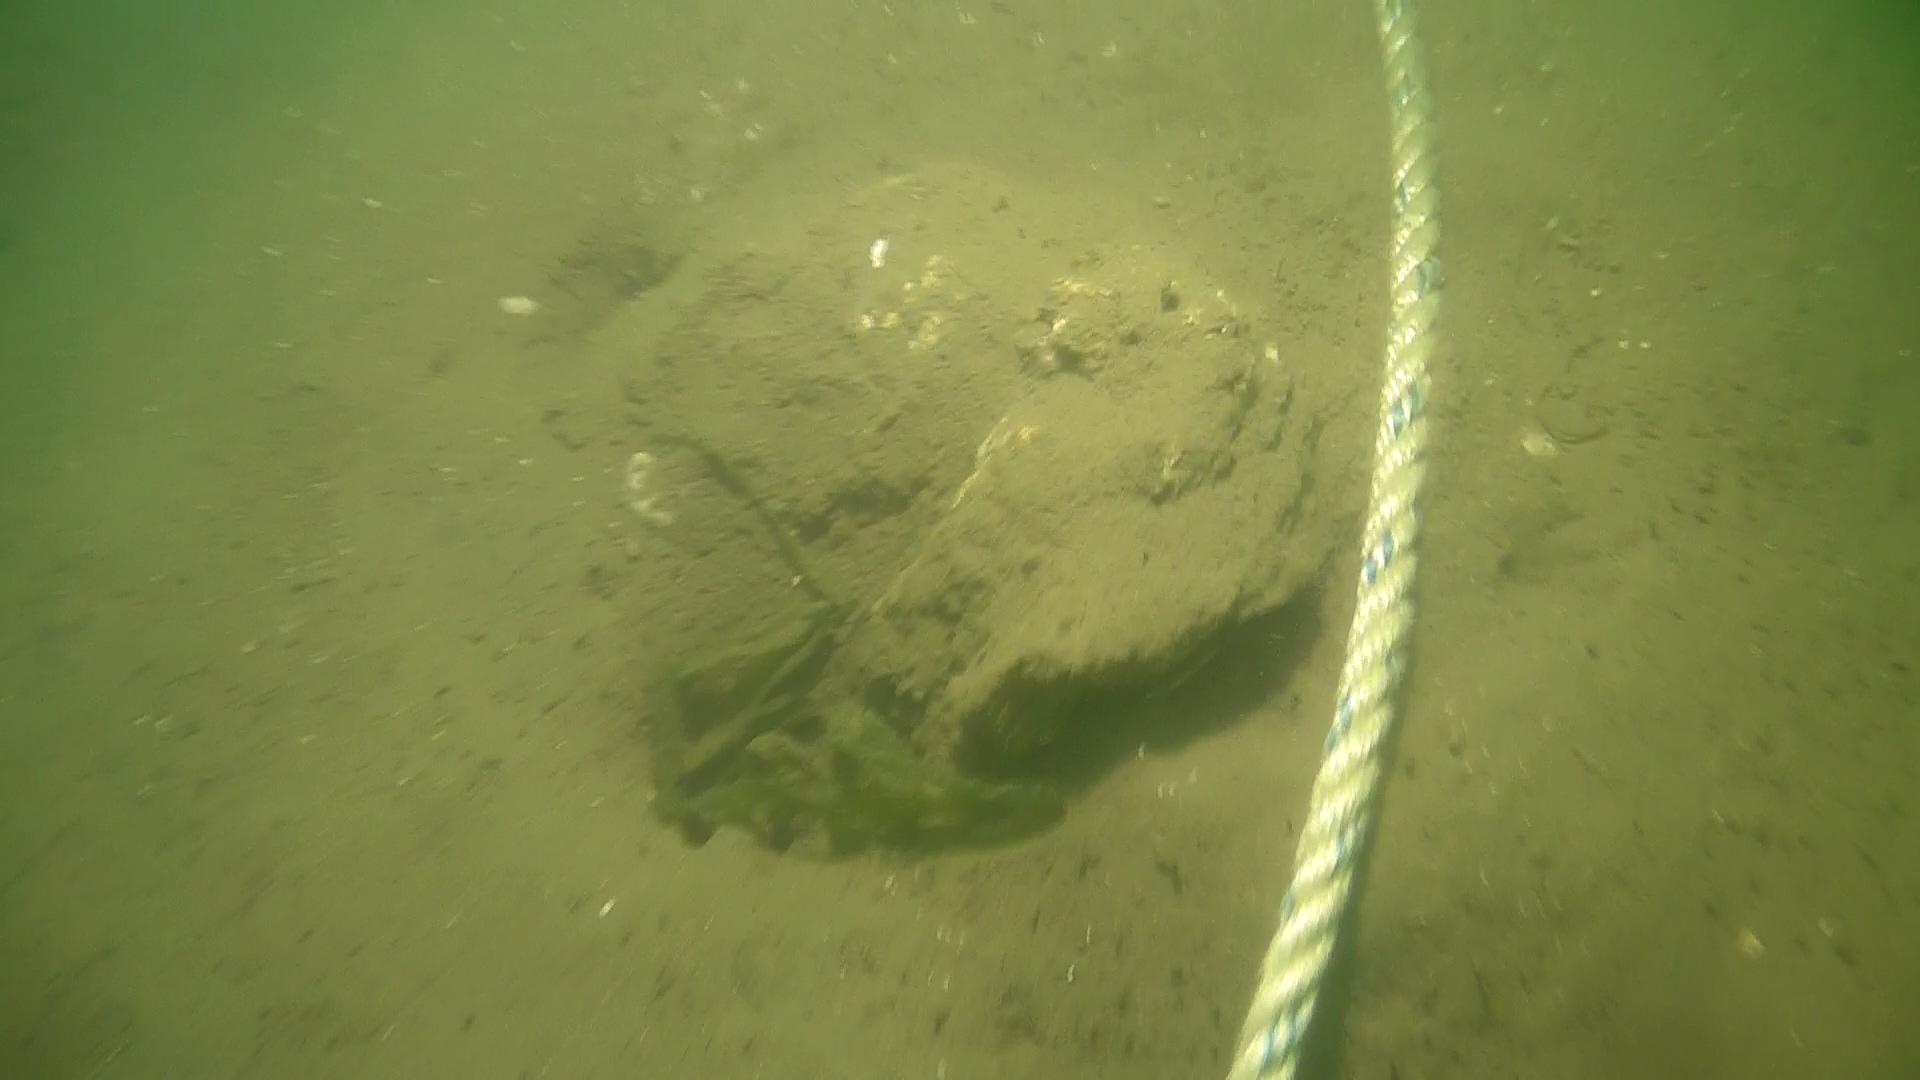rope: (1221, 0, 1447, 1080)
